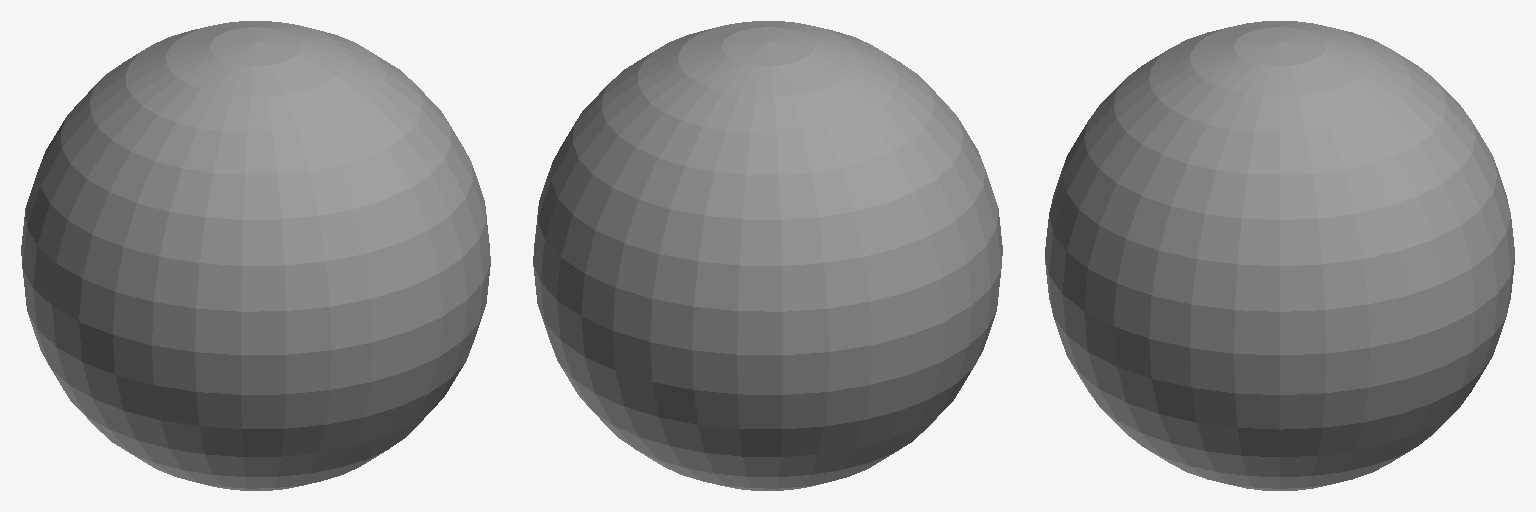
File: earth.obj
The picture shows the model from 3 angles: view 1: azimuth 30°, elevation 25°; view 2: azimuth 150°, elevation 25°; view 3: azimuth 270°, elevation 25°; orthographic projection.
Visible parts, largest first — view 1: Terra_Mesh; view 2: Terra_Mesh; view 3: Terra_Mesh.
Part boxes in pixels (left/top/right/bottom): Terra_Mesh: left=21, top=21, right=490, bottom=490; Terra_Mesh: left=533, top=21, right=1002, bottom=490; Terra_Mesh: left=1045, top=21, right=1514, bottom=490.
Size of the model in its own units: 5.72 by 5.72 by 5.72.